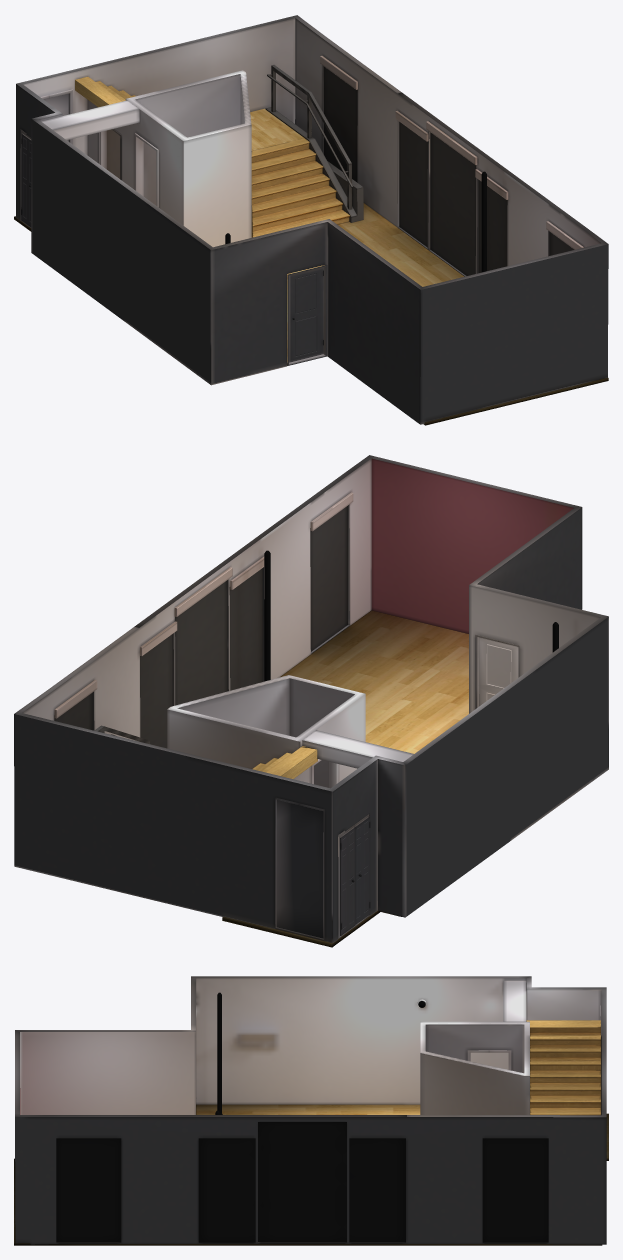
The model's file is Stage_v3_sc0_staging.glb.
The picture shows the model from 3 angles, top to bottom: view 1: azimuth 30°, elevation 25°; view 2: azimuth 150°, elevation 25°; view 3: azimuth 270°, elevation 25°; orthographic projection. The views are drawn at different scales.
Visible parts, largest first — view 1: frl_apartment_wall_arch, frl_apartment_blinds, frl_apartment_stair, frl_apartment_floor, frl_apartment_door_01, frl_apartment_door_05, frl_apartment_door_part_03, frl_apartment_door_part_04, frl_apartment_pipe; view 2: frl_apartment_wall_arch, frl_apartment_blinds, frl_apartment_floor, frl_apartment_door_04, frl_apartment_door_01, frl_apartment_door_05, frl_apartment_door_06, frl_apartment_stair, frl_apartment_pipe, frl_apartment_door_part_02; view 3: frl_apartment_wall_arch, frl_apartment_blinds, frl_apartment_stair, frl_apartment_floor, frl_apartment_pipe.
Part boxes in pixels (x1=…): frl_apartment_wall_arch: x1=16, y1=15, x2=608, y2=424; frl_apartment_blinds: x1=320, y1=56, x2=583, y2=275; frl_apartment_stair: x1=75, y1=65, x2=363, y2=237; frl_apartment_floor: x1=14, y1=203, x2=608, y2=425; frl_apartment_door_01: x1=289, y1=267, x2=323, y2=362; frl_apartment_door_05: x1=21, y1=133, x2=31, y2=226; frl_apartment_door_part_03: x1=287, y1=265, x2=327, y2=365; frl_apartment_door_part_04: x1=135, y1=133, x2=158, y2=207; frl_apartment_pipe: x1=225, y1=171, x2=486, y2=272; frl_apartment_wall_arch: x1=14, y1=455, x2=608, y2=943; frl_apartment_blinds: x1=54, y1=492, x2=353, y2=748; frl_apartment_floor: x1=222, y1=610, x2=468, y2=947; frl_apartment_door_04: x1=276, y1=800, x2=323, y2=938; frl_apartment_door_01: x1=479, y1=637, x2=518, y2=706; frl_apartment_door_05: x1=340, y1=827, x2=355, y2=935; frl_apartment_door_06: x1=354, y1=816, x2=370, y2=924; frl_apartment_stair: x1=94, y1=725, x2=317, y2=778; frl_apartment_pipe: x1=264, y1=550, x2=558, y2=681; frl_apartment_door_part_02: x1=275, y1=797, x2=324, y2=940; frl_apartment_wall_arch: x1=15, y1=976, x2=606, y2=1244; frl_apartment_blinds: x1=56, y1=1122, x2=548, y2=1242; frl_apartment_stair: x1=526, y1=1020, x2=600, y2=1115; frl_apartment_floor: x1=14, y1=1104, x2=608, y2=1245; frl_apartment_pipe: x1=215, y1=992, x2=222, y2=1114.
Bounding box in the file's own units: 7.26 × 3.11 × 12.93.
1 material, 1 textured.
